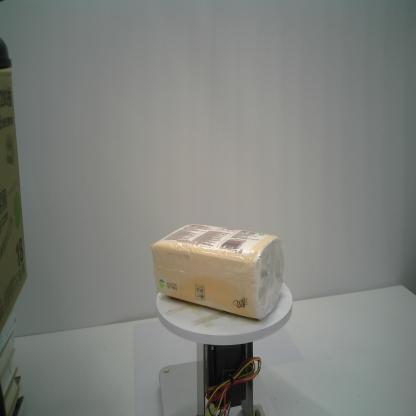Tissue: (150, 224, 285, 321)
